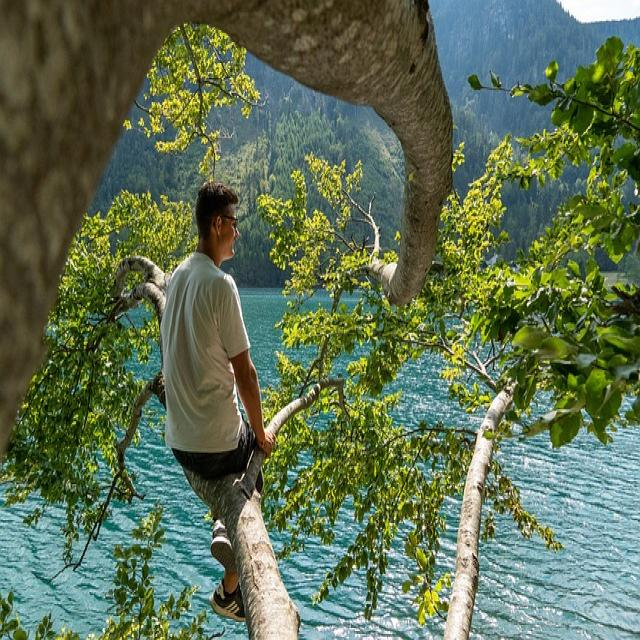Real human 2: (150, 162, 294, 634)
